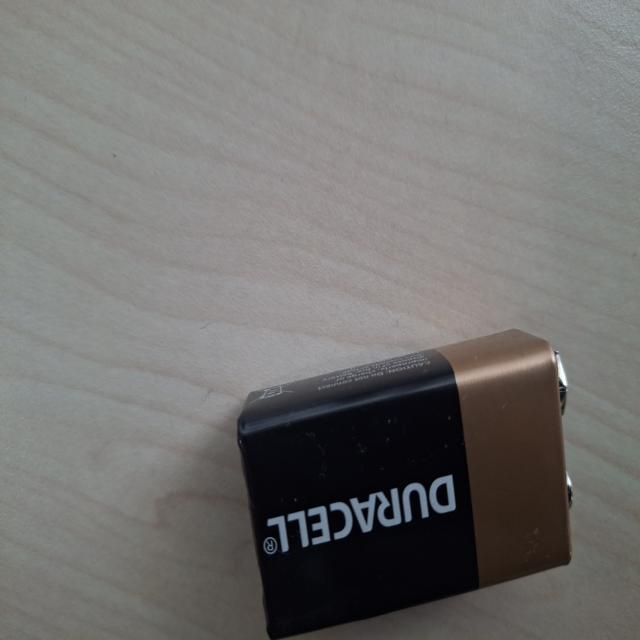9V: (244, 90, 480, 536)
